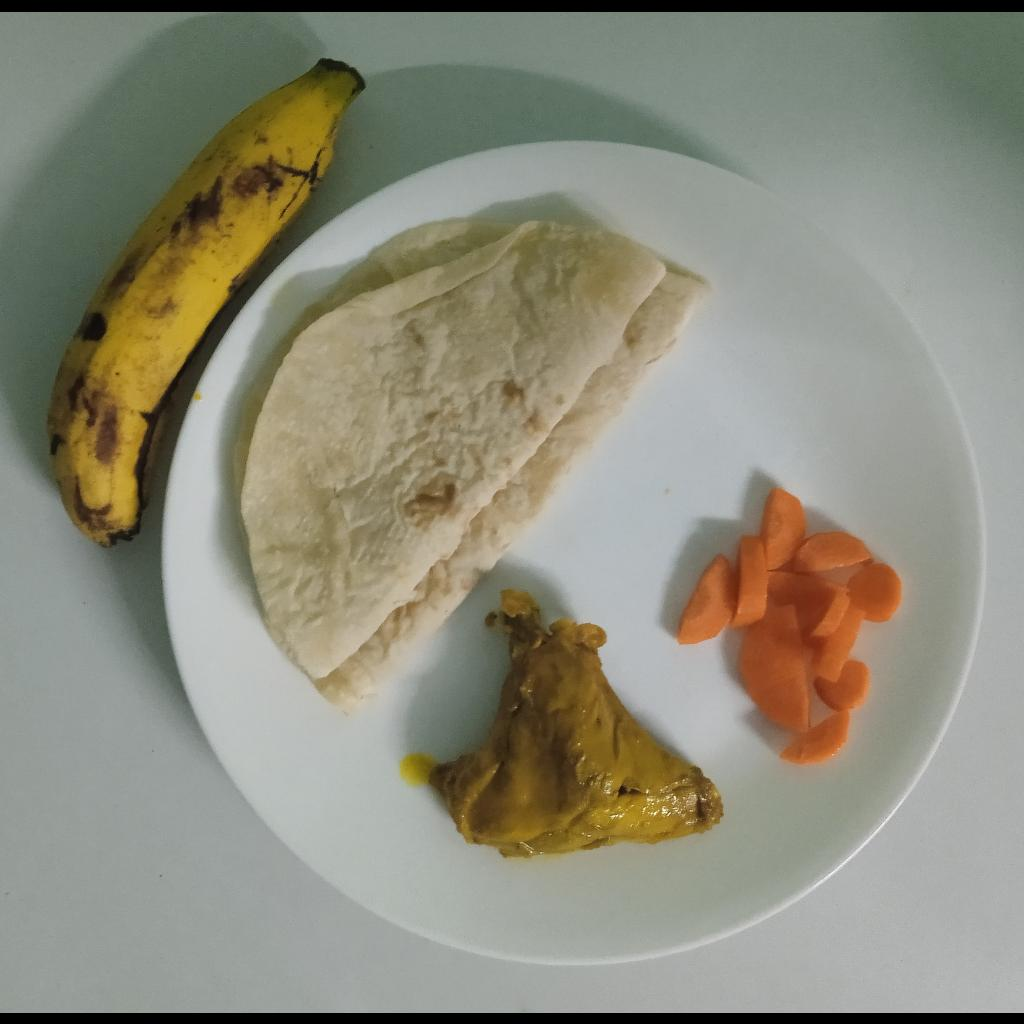banana: (45, 55, 370, 551)
carrot: (675, 487, 903, 767)
chicken: (423, 586, 729, 859)
ruti: (231, 211, 708, 722)
